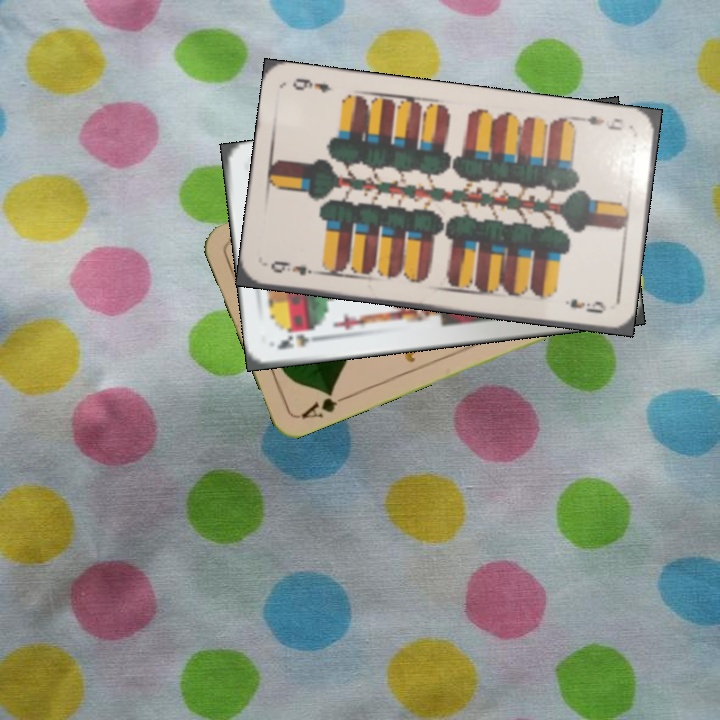E9: (267, 256, 322, 278), (574, 112, 625, 133)
GA: (297, 386, 353, 422)
SK: (273, 330, 328, 352)
